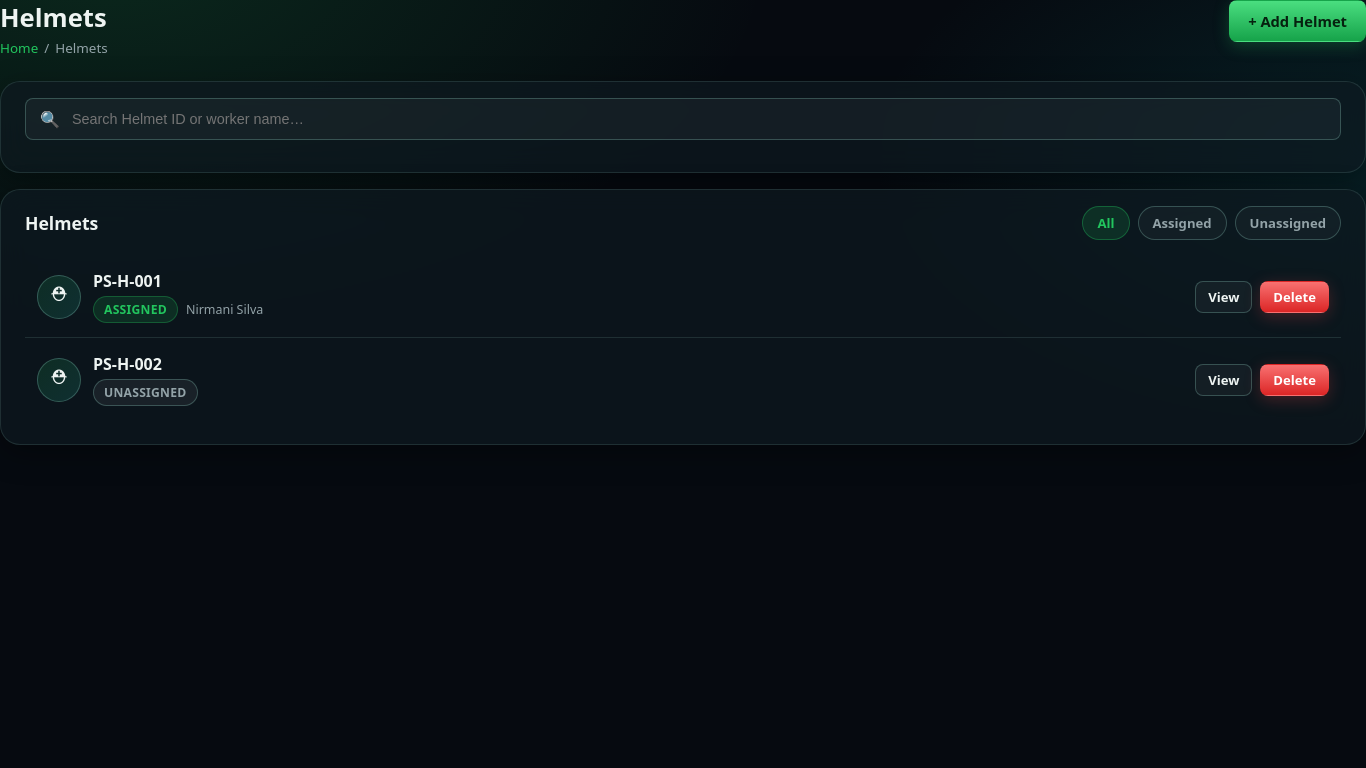
it: HelmetListPage › View opens the helmet details modal for the clicked helmet
Check: the text "PS-H-002" is shown, box [93,353,162,375]
Click the button "View" in the row of "PS-H-002": (1224, 380) [1195,364,1252,396]
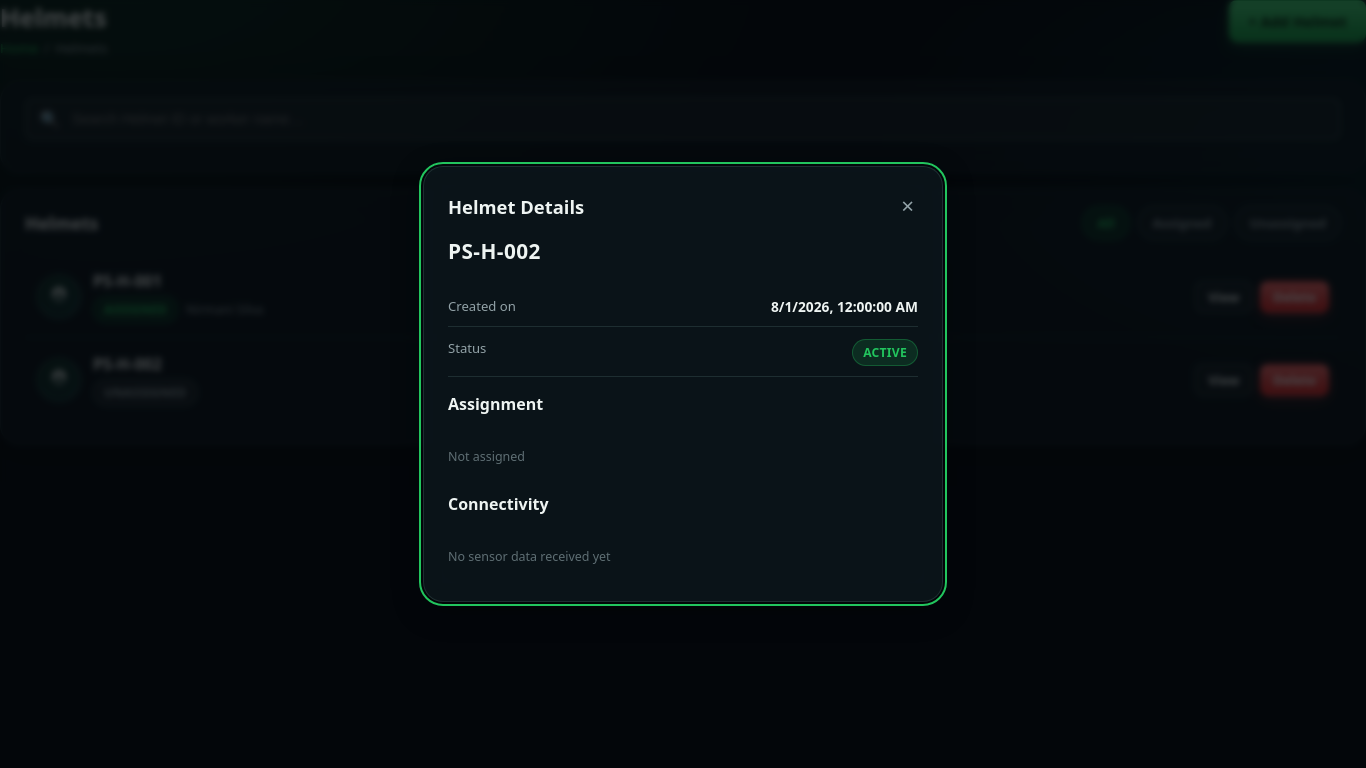
Check: the text "Not assigned" is shown, box [448,448,525,465]
